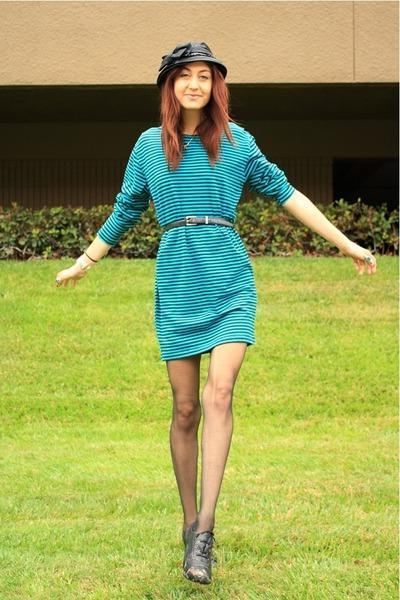dress: (95, 112, 292, 365)
